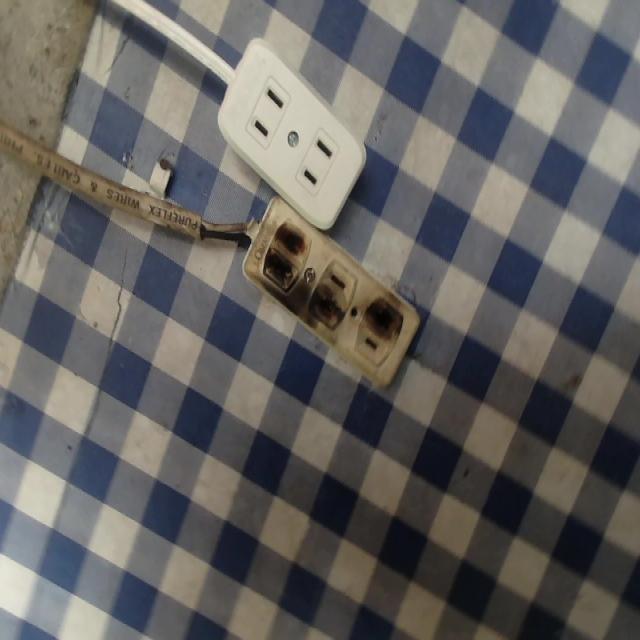-: (261, 213, 307, 291), (359, 291, 408, 352), (304, 295, 347, 344)
